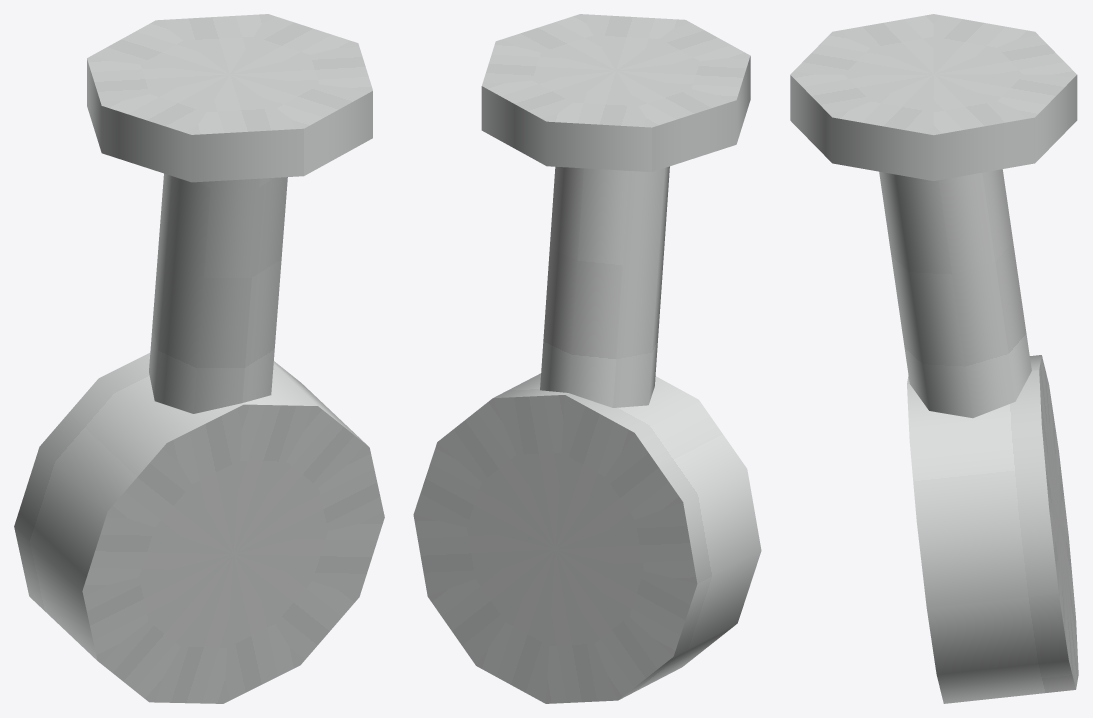
Rendered from trusssignalarm_stub_70.obj.
3 renders of one model, left to right at view 1: azimuth 30°, elevation 25°; view 2: azimuth 150°, elevation 25°; view 3: azimuth 270°, elevation 25°, orthographic. The views are drawn at different scales.
Parts seen in each view (by area): view 1: trusssignalarm_stub_70; view 2: trusssignalarm_stub_70; view 3: trusssignalarm_stub_70.
Boxes of the visible parts, x1,y1,x2,y2 form: trusssignalarm_stub_70: [14, 14, 384, 703]; trusssignalarm_stub_70: [413, 14, 761, 703]; trusssignalarm_stub_70: [790, 14, 1078, 703].
Bounding box in the file's own units: 0.4125 × 0.8265 × 0.3519.
